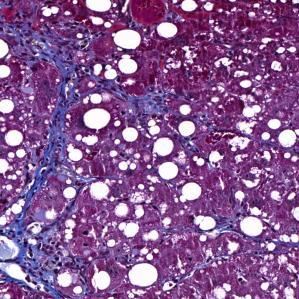fibrosis: (4, 216, 87, 294), (8, 13, 93, 82), (22, 108, 81, 192)
